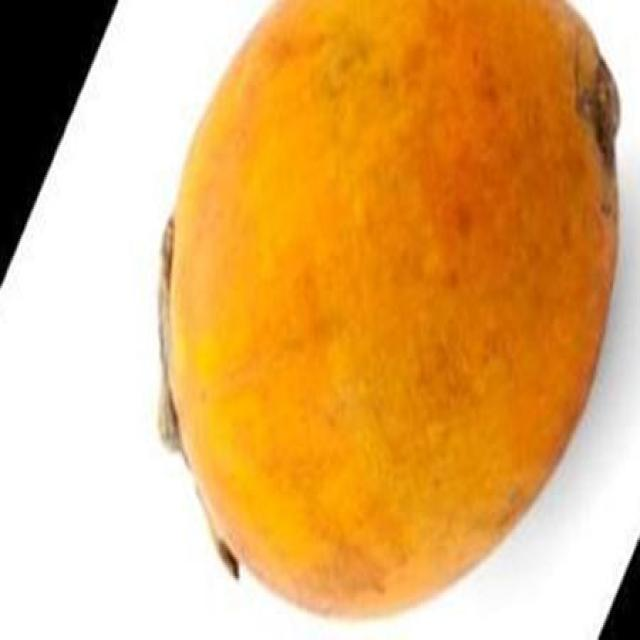good: (159, 0, 622, 623)
